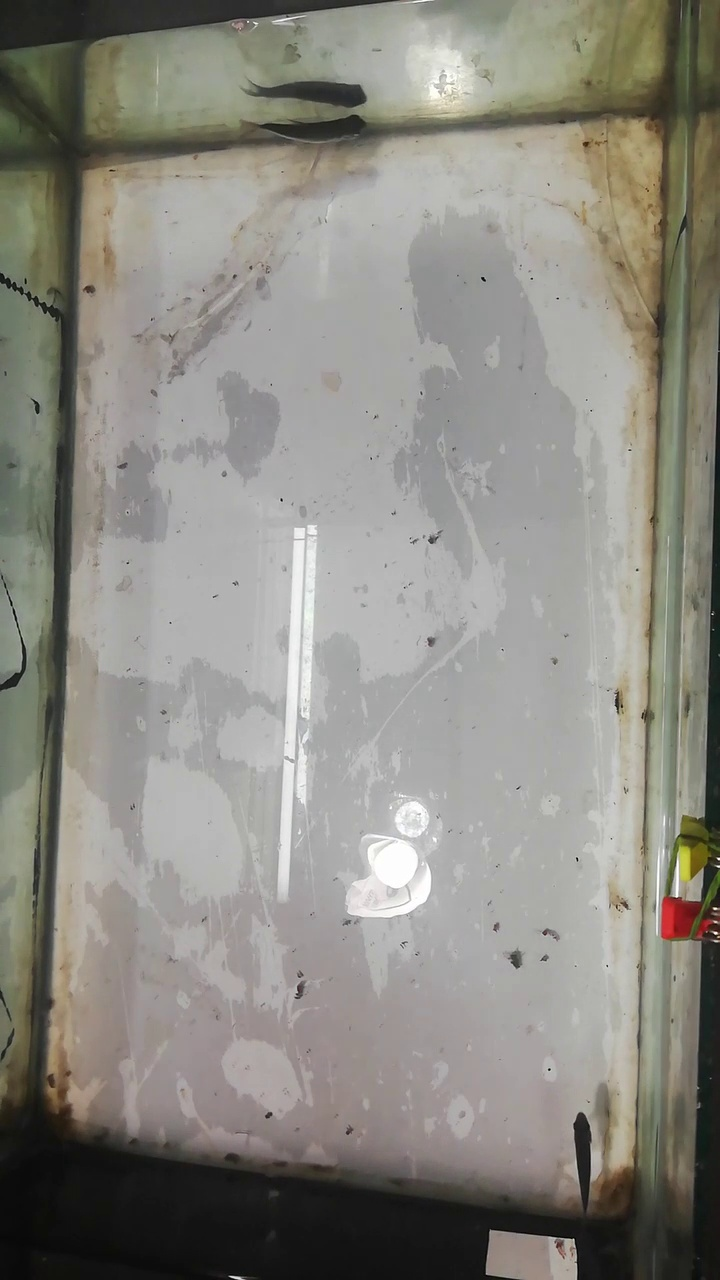fish1: (243, 115, 370, 146)
fish2: (569, 1109, 596, 1213)
